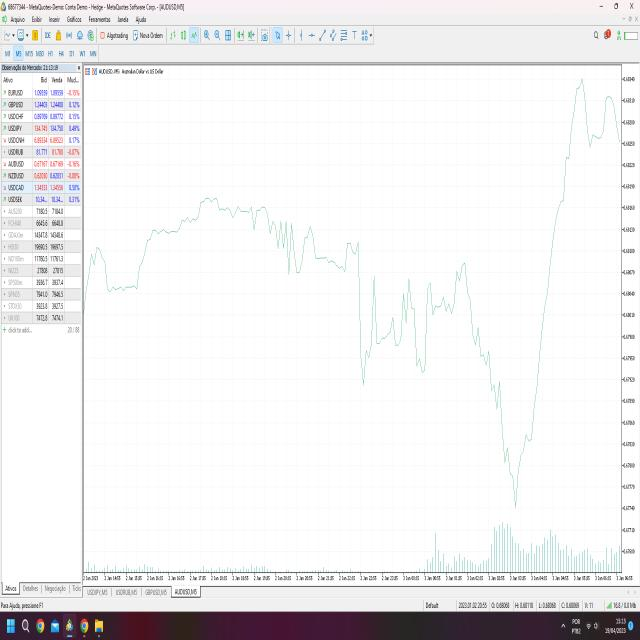topo_duplo: (560, 80, 622, 215)
